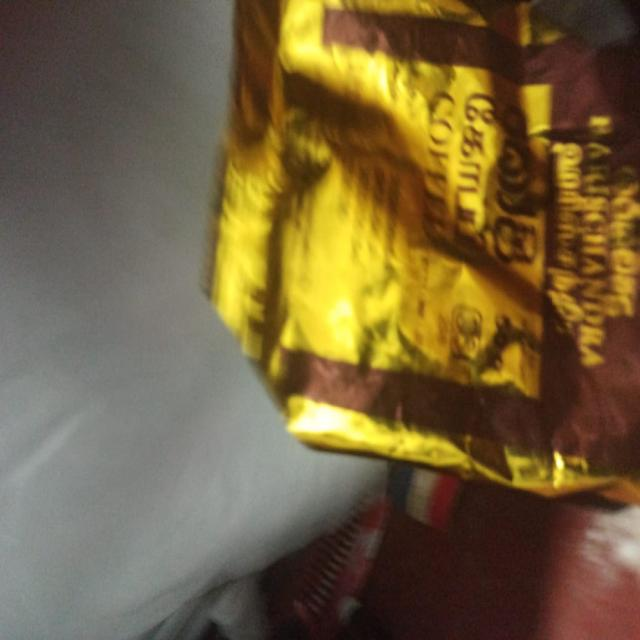Harischandra Coffee: (159, 0, 640, 480)
